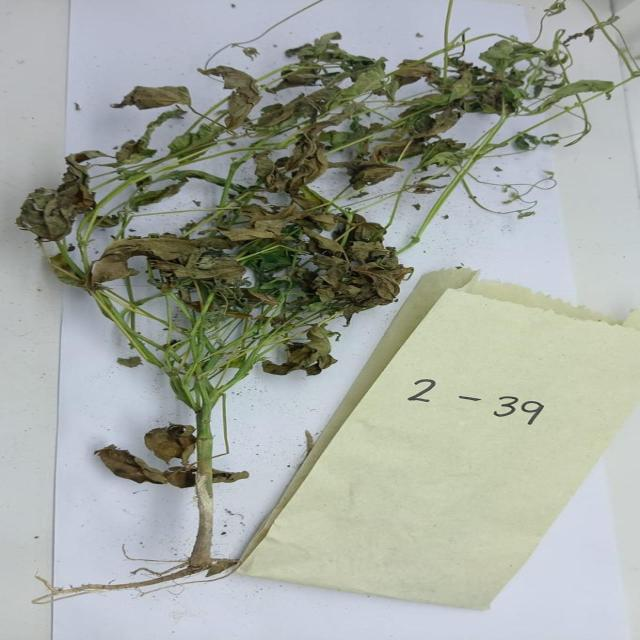Root: (16, 540, 254, 608)
Stem: (180, 394, 222, 546), (420, 25, 577, 63), (148, 295, 221, 371), (144, 365, 252, 416), (212, 299, 278, 379), (413, 167, 465, 245), (86, 293, 148, 353), (110, 148, 251, 174), (84, 175, 156, 225)
healty_leaves: (472, 69, 616, 125), (338, 72, 402, 118), (245, 242, 309, 276)
rooten_leaf: (306, 222, 414, 320), (13, 149, 99, 240), (93, 425, 203, 492), (82, 235, 208, 285), (193, 61, 260, 130), (264, 328, 350, 375), (390, 111, 470, 159), (223, 208, 331, 241), (275, 124, 323, 193), (160, 252, 263, 284), (266, 182, 328, 220), (113, 86, 195, 112), (212, 462, 260, 488), (277, 68, 330, 88), (396, 61, 434, 85)
